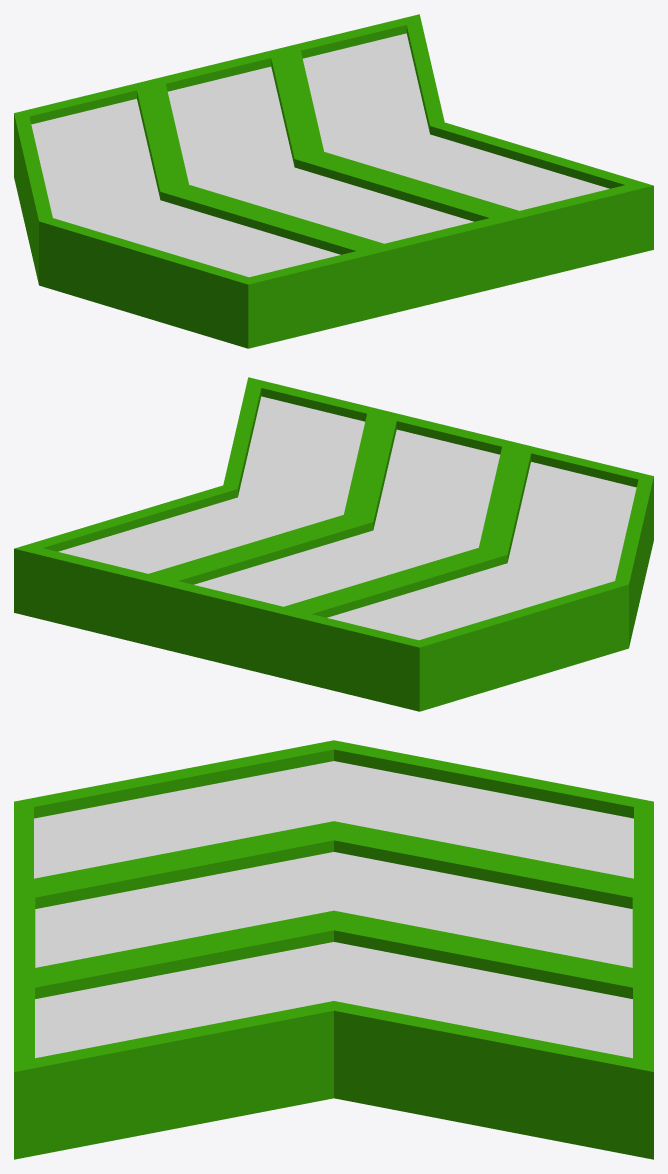
Rendered from Impulsador.fbx.
3 views of the same model, one above another, from view 1: azimuth 30°, elevation 25°; view 2: azimuth 150°, elevation 25°; view 3: azimuth 270°, elevation 25° (orthographic). The views are drawn at different scales.
Visible parts, largest first — view 1: Impulsador.003; view 2: Impulsador.003; view 3: Impulsador.003.
Part boxes in pixels (box(x1,y1,x2,y2)): Impulsador.003: box(14, 14, 653, 348); Impulsador.003: box(14, 377, 653, 711); Impulsador.003: box(14, 740, 653, 1159).
Bounding box in the file's own units: 38.36 × 4.72 × 31.26.
